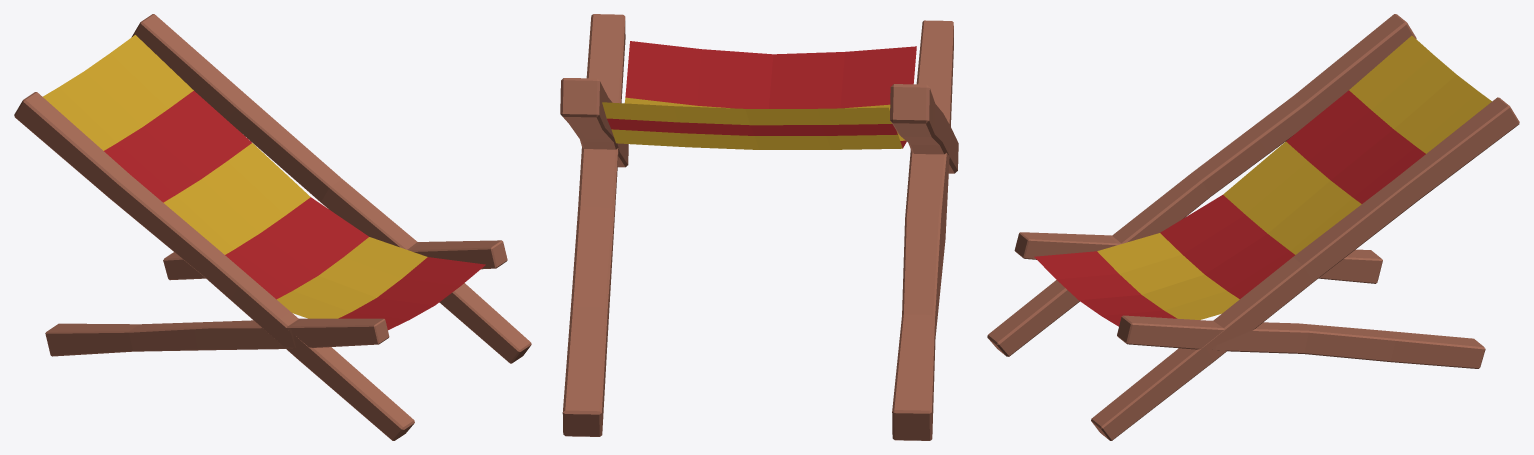
File: Sdraio2.gltf
3 renders of one model, left to right at view 1: azimuth 30°, elevation 25°; view 2: azimuth 150°, elevation 25°; view 3: azimuth 270°, elevation 25°, orthographic. The views are drawn at different scales.
Visible parts, largest first — view 1: Cube.004; view 2: Cube.004; view 3: Cube.004.
Part boxes in pixels (<box>): Cube.004: <box>14,14,531,440</box>; Cube.004: <box>560,14,958,440</box>; Cube.004: <box>987,14,1519,440</box>.
Bounding box in the file's own units: 3.09 × 2.01 × 3.77.
